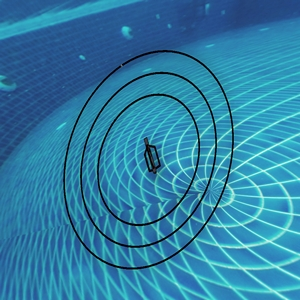circle: (48, 39, 254, 287)
submarine: (140, 140, 162, 170)
